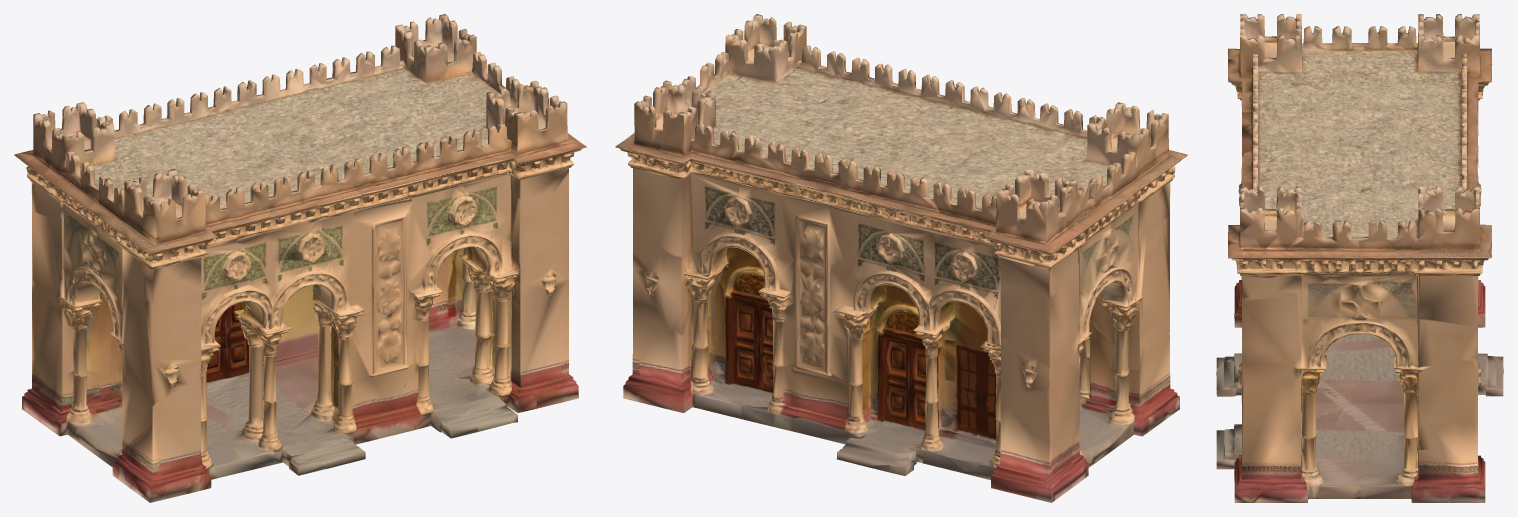
The model's file is Meshy_AI_Moroccan_palace_facad_0808145803_texture.glb.
3 renders of one model, left to right at view 1: azimuth 30°, elevation 25°; view 2: azimuth 150°, elevation 25°; view 3: azimuth 270°, elevation 25°, orthographic. The views are drawn at different scales.
Parts seen in each view (by area): view 1: mesh_node; view 2: mesh_node; view 3: mesh_node.
Part boxes in pixels (x1,y1,x2,y2): mesh_node: (14,14,586,502); mesh_node: (615,14,1187,502); mesh_node: (1216,14,1503,502).
Bounding box in the file's own units: 1.9 × 1.22 × 1.1.
Materials: 1 (1 with a texture image).
